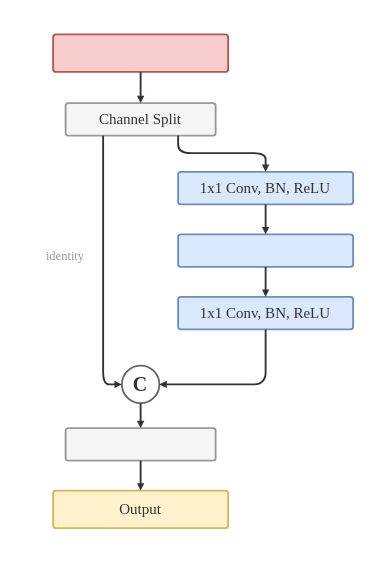
This 386x561 diagram has some shape labels left out. The centre of each missing label's shape, as x and y in pixels:
3x3 DWConv, BN: [265,250]
Channel Shuffle: [140,444]
Input: [140,52]
